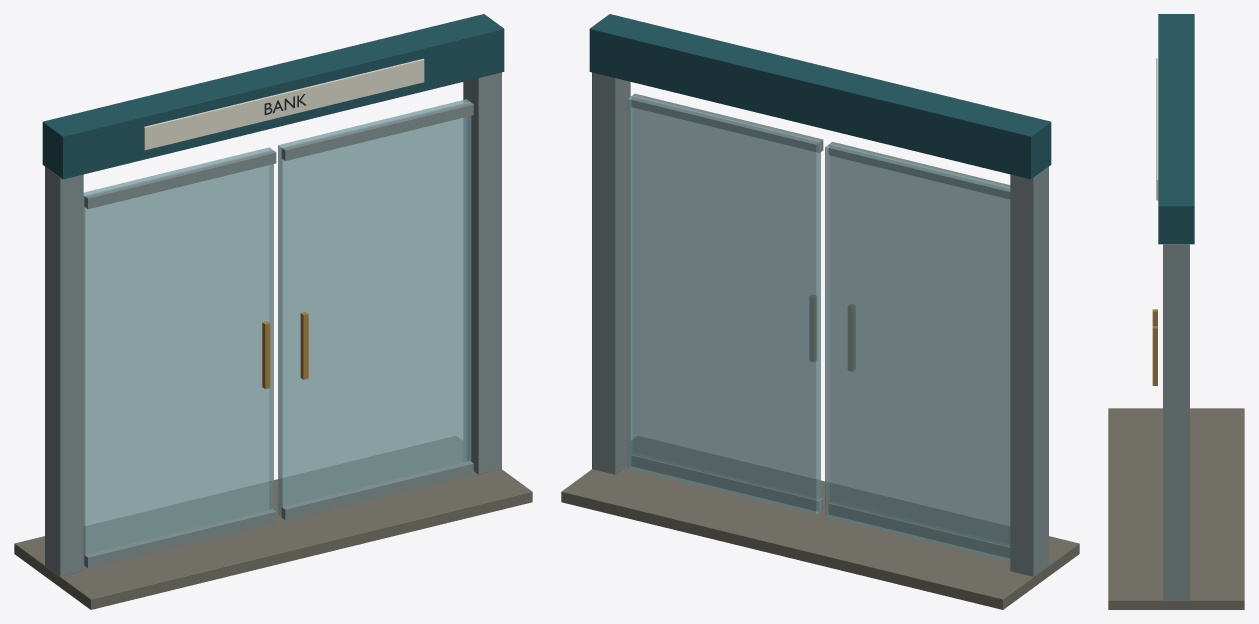
The model's file is bank-branch-entrance.glb.
3 views of the same model, side by side, from view 1: azimuth 30°, elevation 25°; view 2: azimuth 150°, elevation 25°; view 3: azimuth 270°, elevation 25° (orthographic). The views are drawn at different scales.
Parts seen in each view (by area): view 1: Leaf.001, Leaf, Threshold, Header, Frame_Jamb, Frame_Jamb.001, Replaceable_Branch_Sign, Door_Rail.002, Door_Rail.001, Door_Rail, Door_Rail.003; view 2: Leaf.001, Leaf, Threshold, Header, Frame_Jamb, Frame_Jamb.001, Door_Rail.003, Door_Rail.002, Door_Rail.001, Door_Rail; view 3: Threshold, Frame_Jamb.001, Header, Replaceable_Branch_Sign, Handle.001.
Part boxes in pixels (box(x1,y1,x2,y2)): Leaf.001: box(278, 99, 471, 517); Leaf: box(83, 147, 273, 565); Threshold: box(14, 436, 532, 609); Header: box(42, 14, 504, 179); Frame_Jamb: box(45, 167, 83, 576); Frame_Jamb.001: box(463, 72, 501, 474); Replaceable_Branch_Sign: box(144, 58, 424, 150); Door_Rail.002: box(281, 461, 473, 520); Door_Rail.001: box(84, 150, 276, 209); Door_Rail: box(84, 509, 276, 568); Door_Rail.003: box(281, 102, 473, 160); Leaf.001: box(627, 95, 820, 514); Leaf: box(825, 144, 1010, 561); Threshold: box(561, 436, 1079, 609); Header: box(589, 14, 1051, 179); Frame_Jamb: box(1010, 167, 1048, 576); Frame_Jamb.001: box(592, 72, 630, 474); Door_Rail.003: box(631, 93, 823, 152); Door_Rail.002: box(631, 453, 823, 511); Door_Rail.001: box(829, 142, 1010, 198); Door_Rail: box(829, 501, 1009, 558); Threshold: box(1108, 408, 1244, 609); Frame_Jamb.001: box(1163, 244, 1189, 600); Header: box(1158, 14, 1194, 244); Replaceable_Branch_Sign: box(1156, 58, 1158, 200); Handle.001: box(1152, 326, 1157, 385).
Size of the model in its own units: 3 by 2.94 by 0.9.
